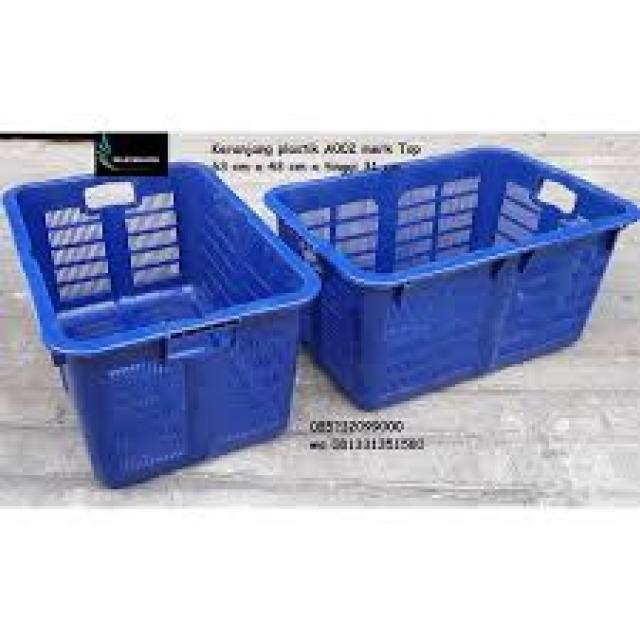basket: (0, 108, 362, 498)
